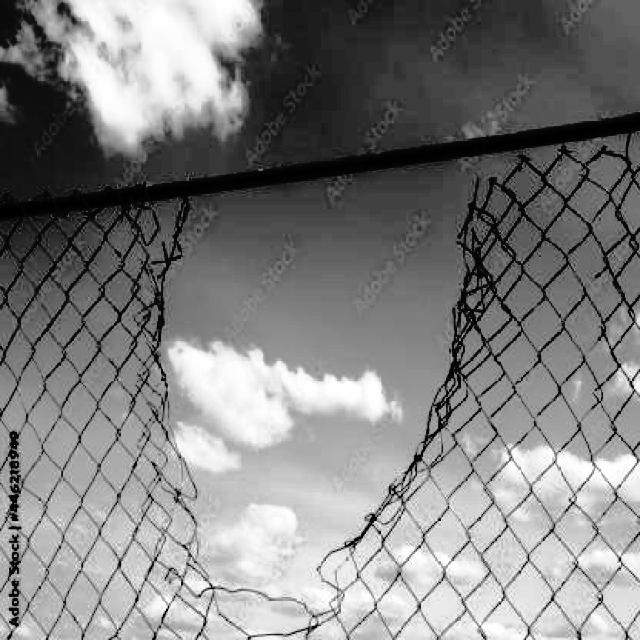anomaly-fence: (119, 155, 539, 630)
